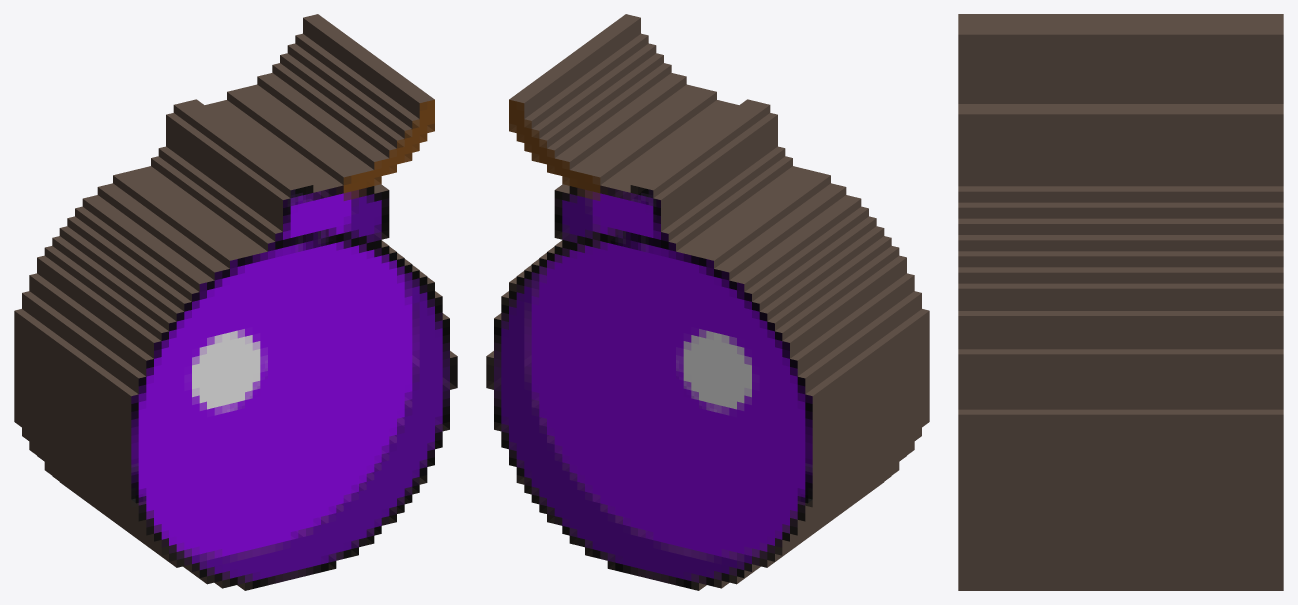
3 renders of one model, left to right at view 1: azimuth 30°, elevation 25°; view 2: azimuth 150°, elevation 25°; view 3: azimuth 270°, elevation 25°, orthographic. The views are drawn at different scales.
Parts seen in each view (by area): view 1: 23; view 2: 23; view 3: 23.
Part boxes in pixels (x1,y1,x2,y2): 23: (14, 14, 457, 590); 23: (486, 14, 929, 590); 23: (958, 14, 1283, 590).
Size of the model in its own units: 0.3225 by 0.42 by 0.2.
2 materials, 1 textured.
